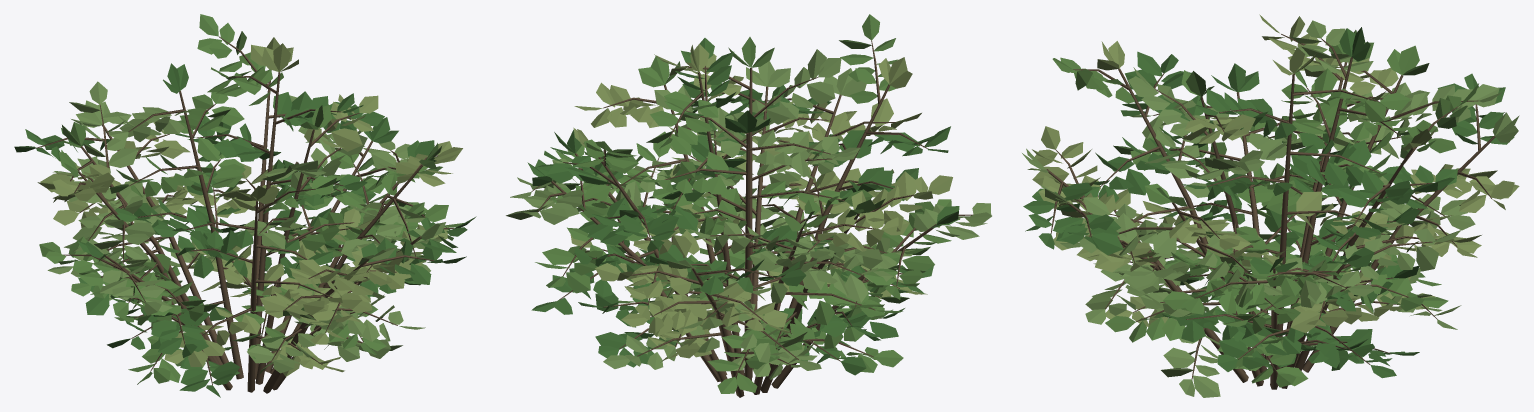
File: shrub-courtyard.glb
3 views of the same model, side by side, from view 1: azimuth 30°, elevation 25°; view 2: azimuth 150°, elevation 25°; view 3: azimuth 270°, elevation 25° (orthographic). The views are drawn at different scales.
Visible parts, largest first — view 1: CourtyardShrub; view 2: CourtyardShrub; view 3: CourtyardShrub.
Boxes of the visible parts, <box> form: CourtyardShrub: <box>14,14,476,397</box>; CourtyardShrub: <box>506,14,991,397</box>; CourtyardShrub: <box>1022,14,1519,397</box>.
Size of the model in its own units: 0.9999 by 0.8 by 1.03.
